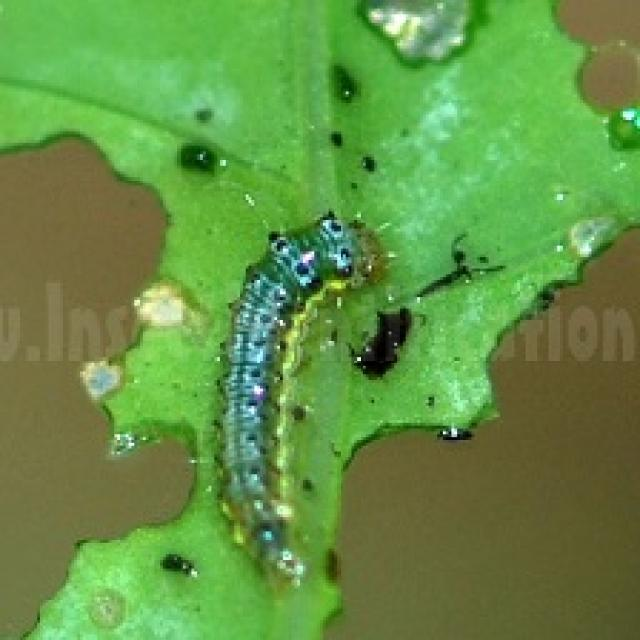Cabbage-worm: (223, 181, 387, 610)
